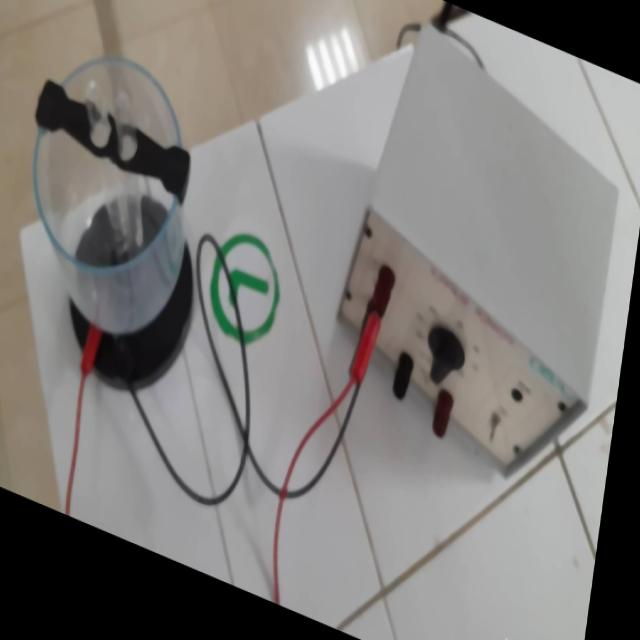Electrolyzer: (4, 24, 224, 422)
